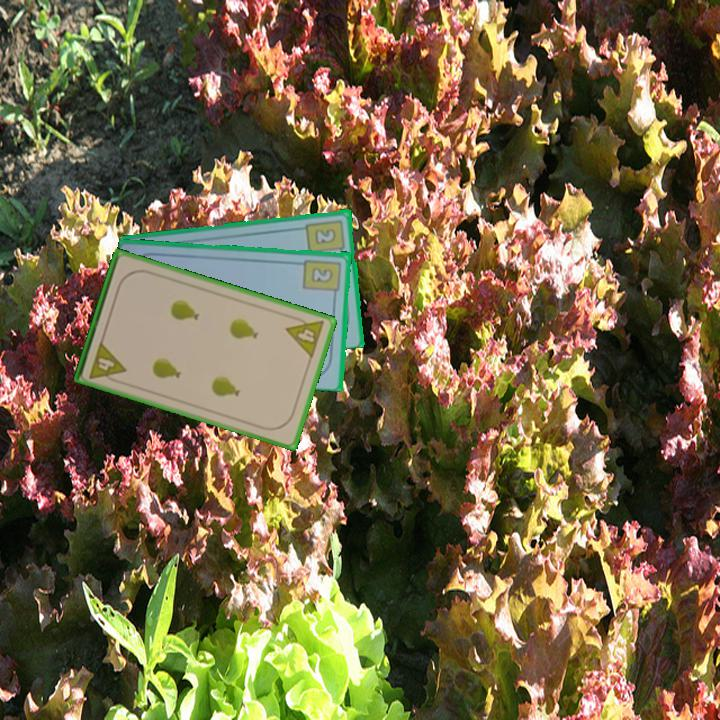2b: (300, 256, 344, 300), (303, 216, 348, 258)
4p: (282, 311, 327, 361), (85, 338, 129, 386)
